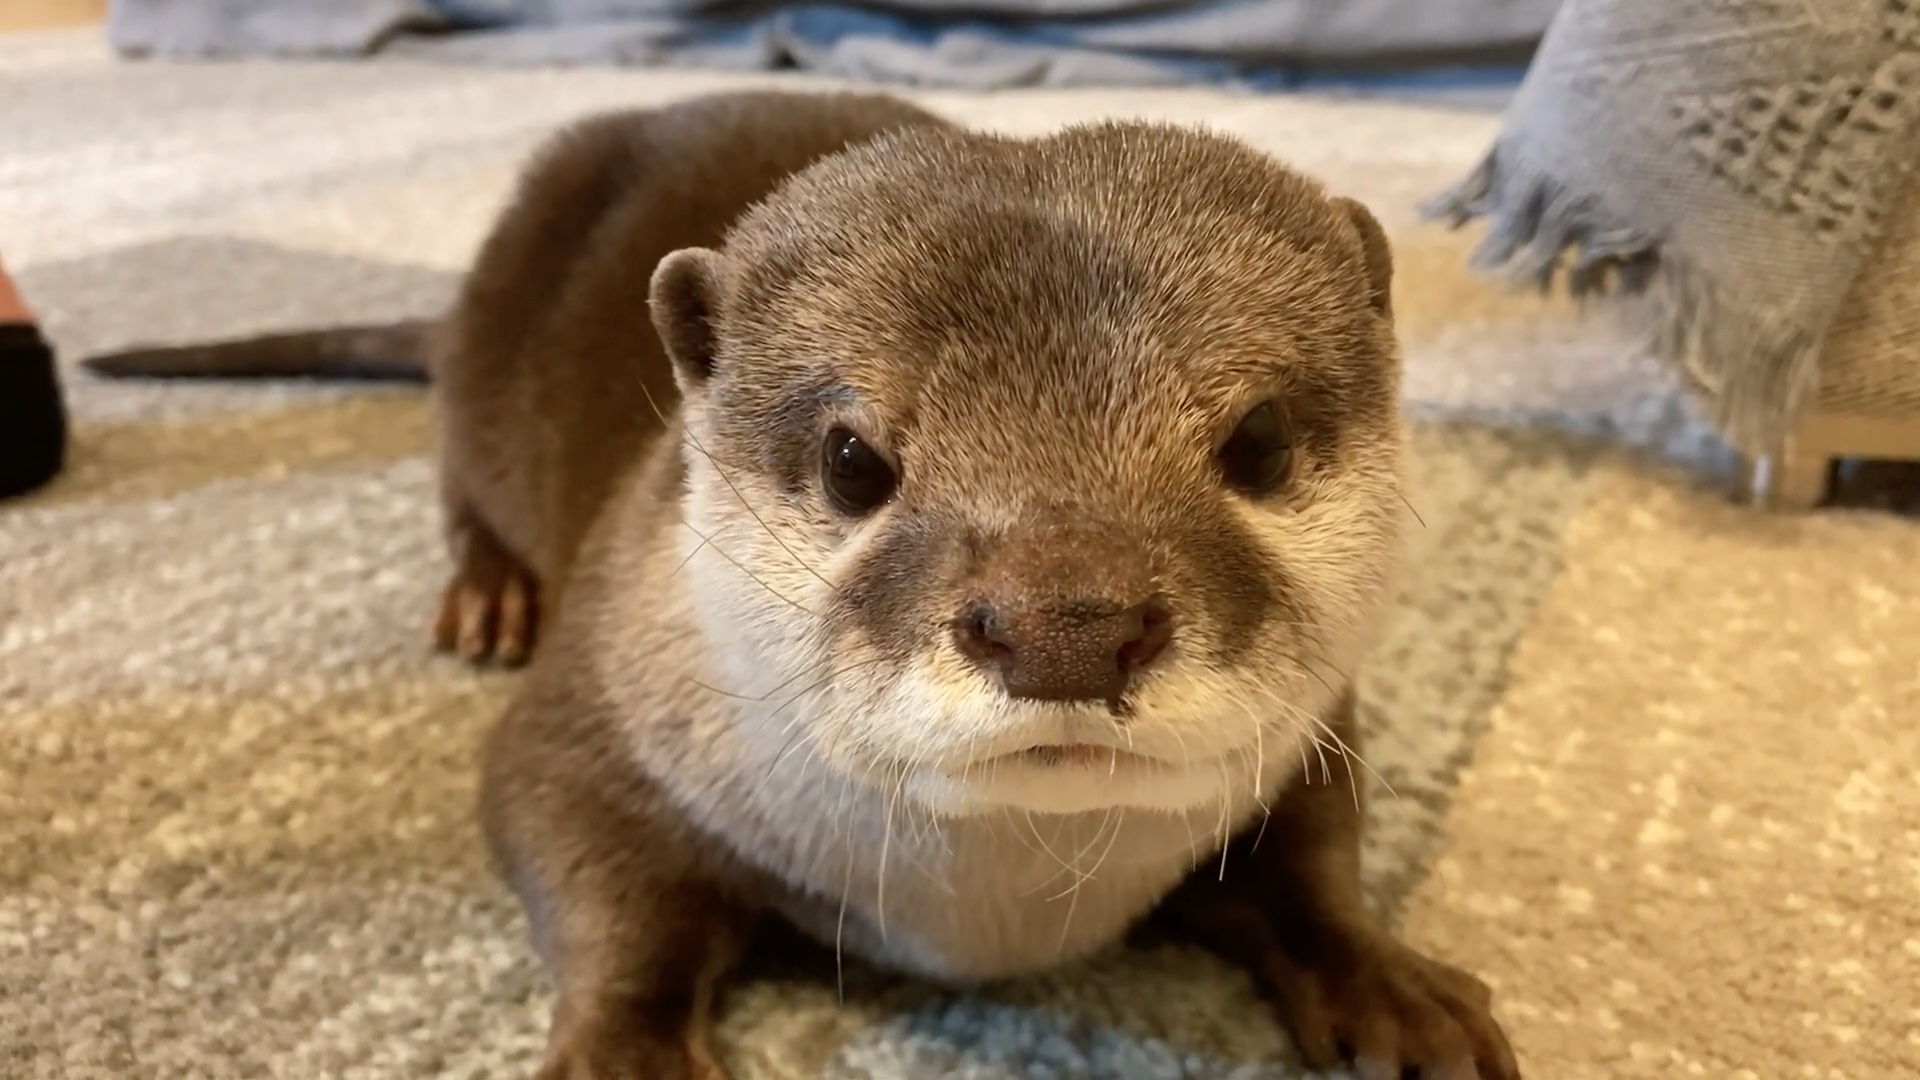otter: (454, 84, 1514, 1080)
